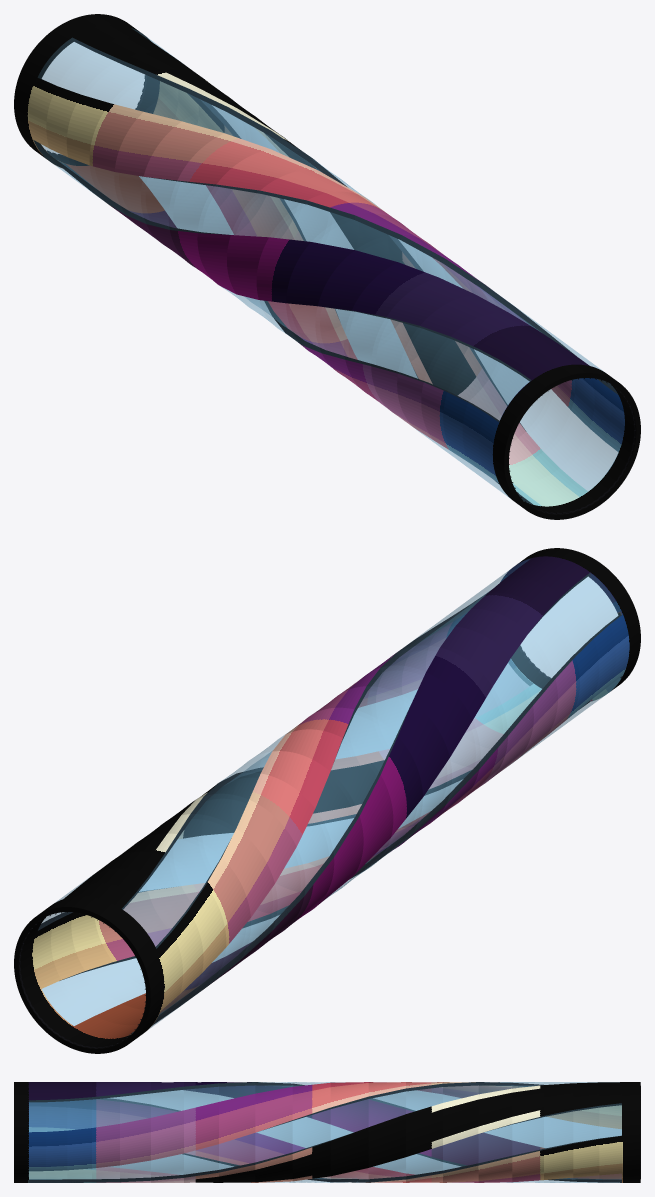
The model's file is LD50-Pipe-Twisted-01.glb.
3 renders of one model, top to bottom at view 1: azimuth 30°, elevation 25°; view 2: azimuth 150°, elevation 25°; view 3: azimuth 270°, elevation 25°, orthographic. The views are drawn at different scales.
Visible parts, largest first — view 1: Pipe-Twisted-01; view 2: Pipe-Twisted-01; view 3: Pipe-Twisted-01.
Part boxes in pixels (<box>): Pipe-Twisted-01: <box>14,14,640,519</box>; Pipe-Twisted-01: <box>14,548,640,1053</box>; Pipe-Twisted-01: <box>14,1082,640,1182</box>.
Size of the model in its own units: 32.2 by 32.2 by 200.
2 materials, 2 textured.
